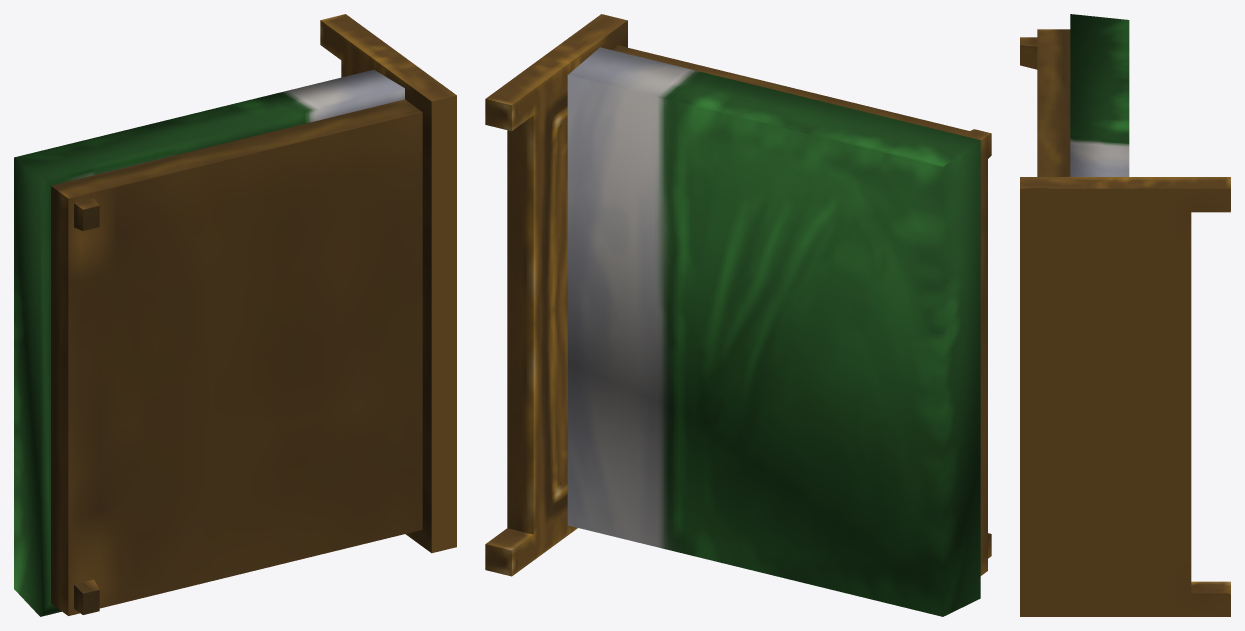
The model's file is props_bed_big.fbx.
3 views of the same model, side by side, from view 1: azimuth 30°, elevation 25°; view 2: azimuth 150°, elevation 25°; view 3: azimuth 270°, elevation 25° (orthographic). The views are drawn at different scales.
Parts seen in each view (by area): view 1: bed_big; view 2: bed_big; view 3: bed_big.
Boxes of the visible parts, x1,y1,x2,y2 form: bed_big: (14, 14, 456, 616); bed_big: (485, 14, 991, 616); bed_big: (1020, 14, 1230, 616).
Size of the model in its own units: 2.14 by 2.37 by 1.06.
Materials: 1 (1 with a texture image).
